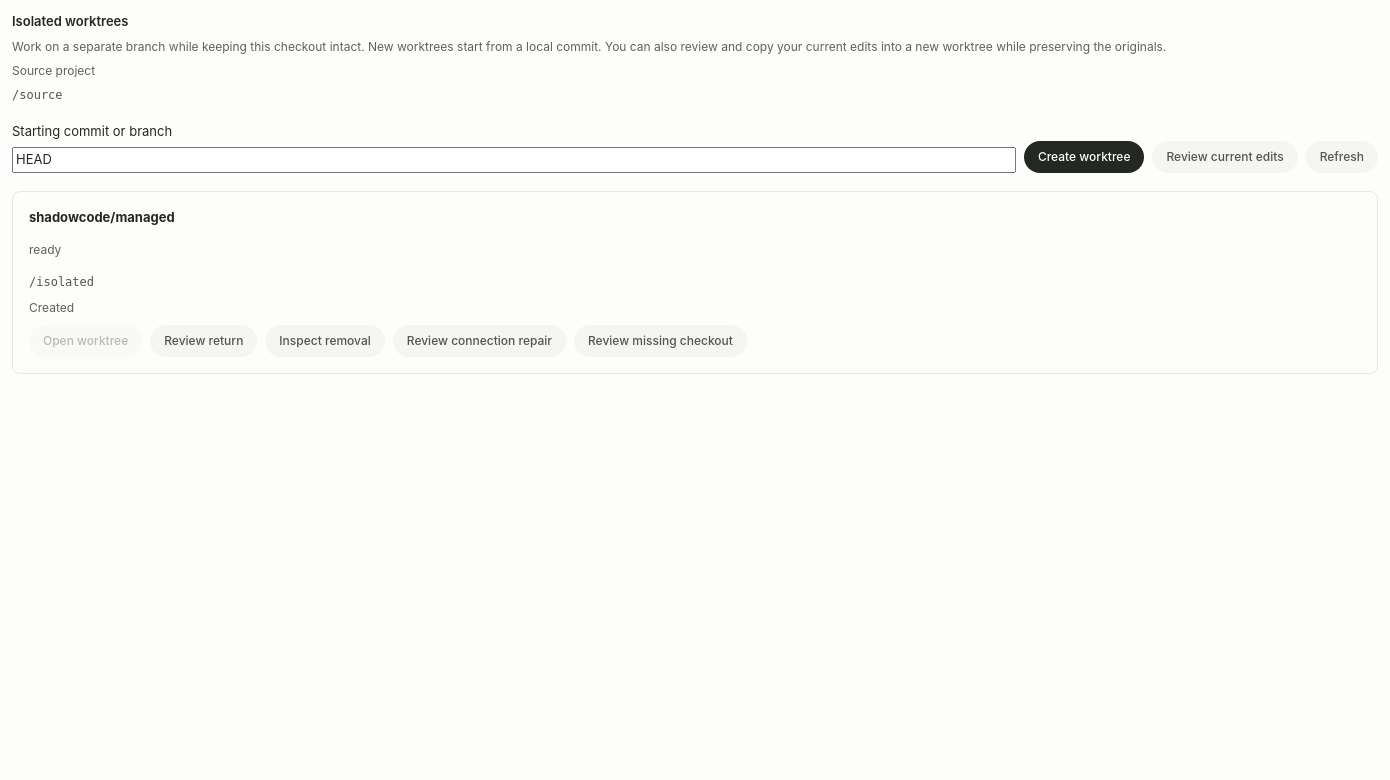
Test: reviews recovery explicitly and rejects stale recovery without reuse
This screenshot has width=1390, height=780.
Click the button "Review missing checkout": (660, 341) [574,325,747,357]
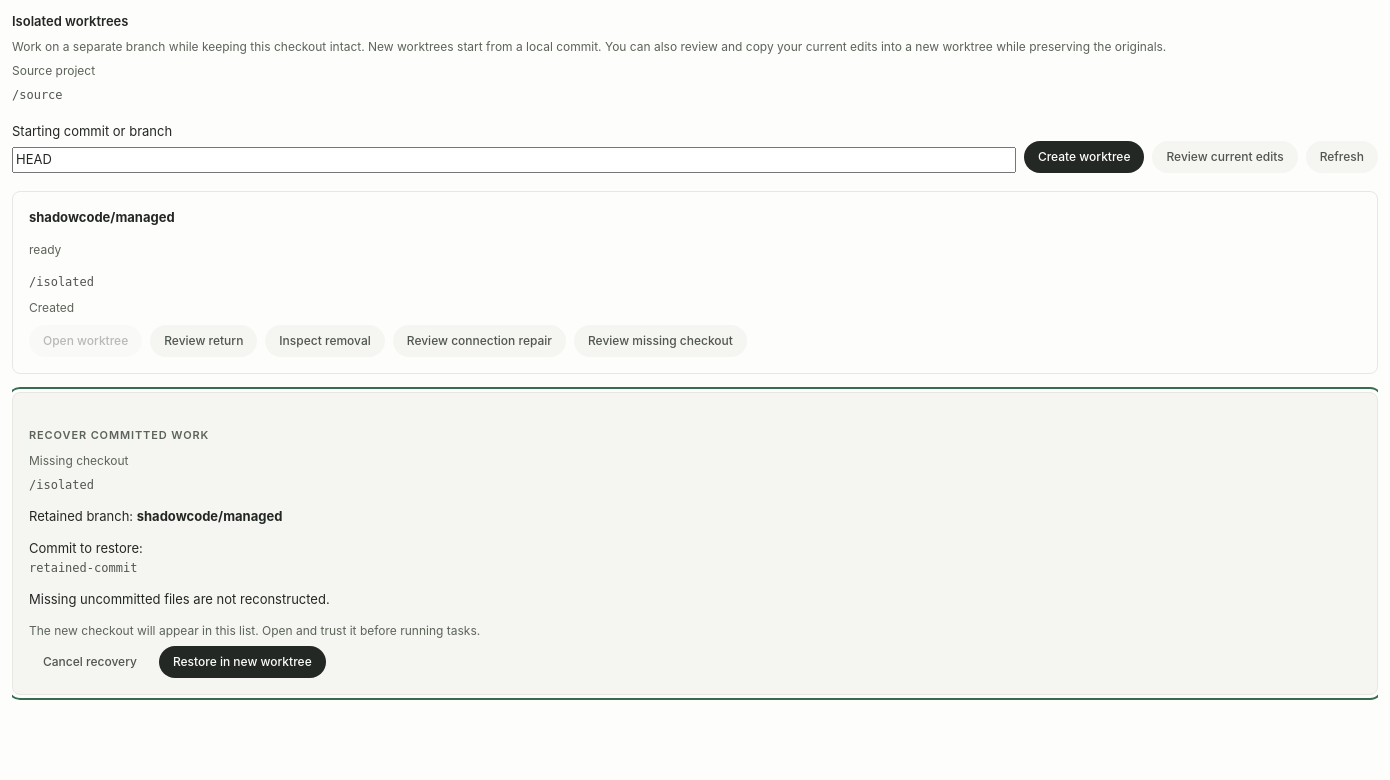
Expected: the text "Missing uncommitted files are not reconstructed." is shown, [29,590,330,606]
Click the button "Restore in new worktree": (242, 662) [159,646,326,678]
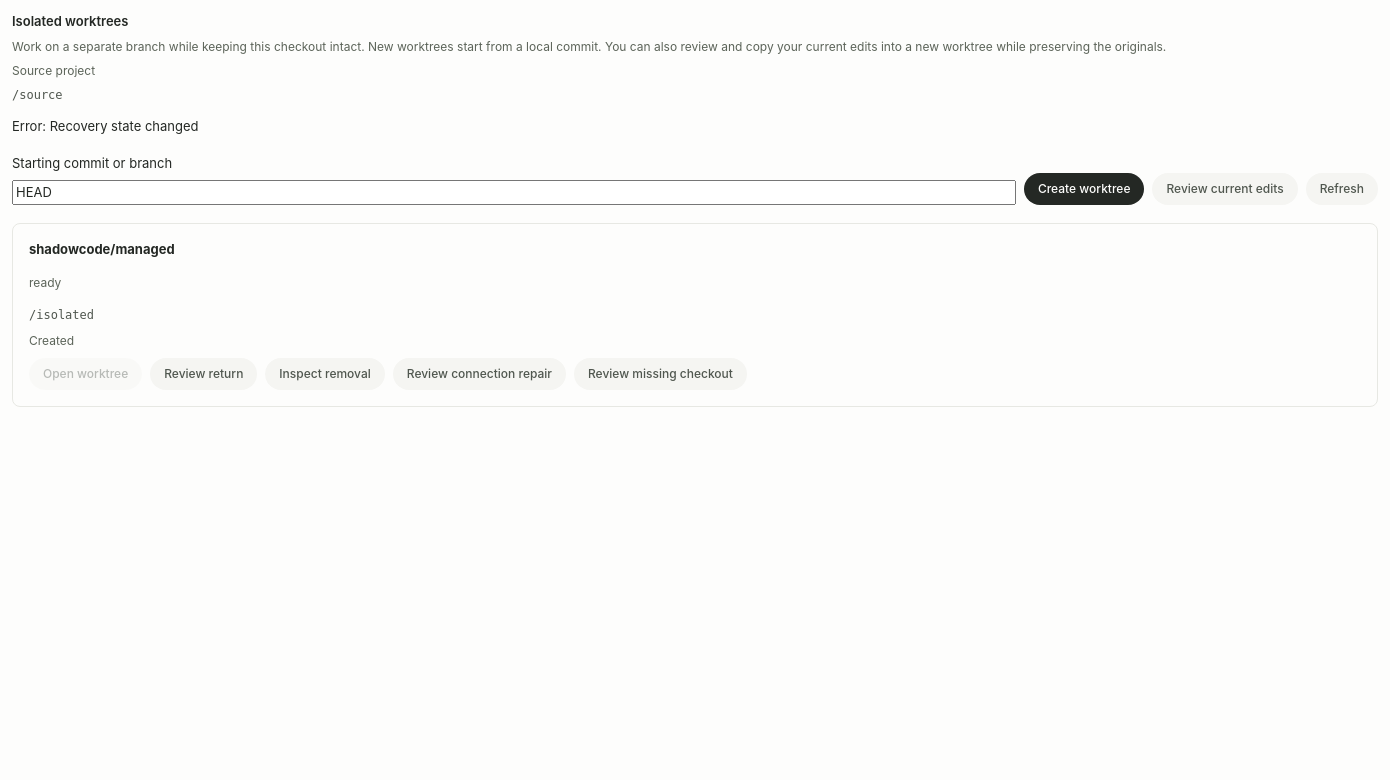
Expected: the message "Error: Recovery state changed" is shown, [12,118,198,134]
